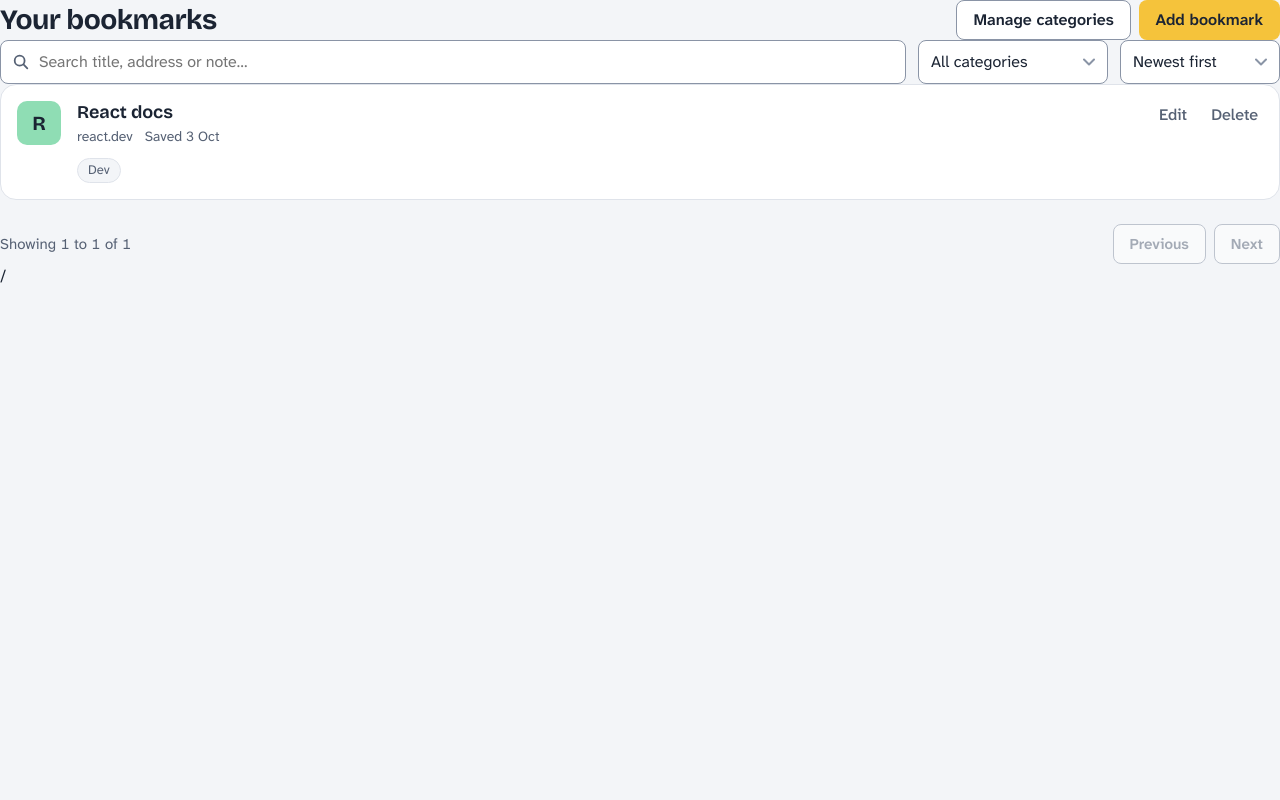
Test case: Manage categories › renames a category, and the bookmark chips show the new name
The image size is (1280, 800).
Expected: the link with aria-label "Show bookmarks in Dev" is shown, [77,158,121,183]
Click the button "Manage categories": (1044,20) [956,0,1131,40]
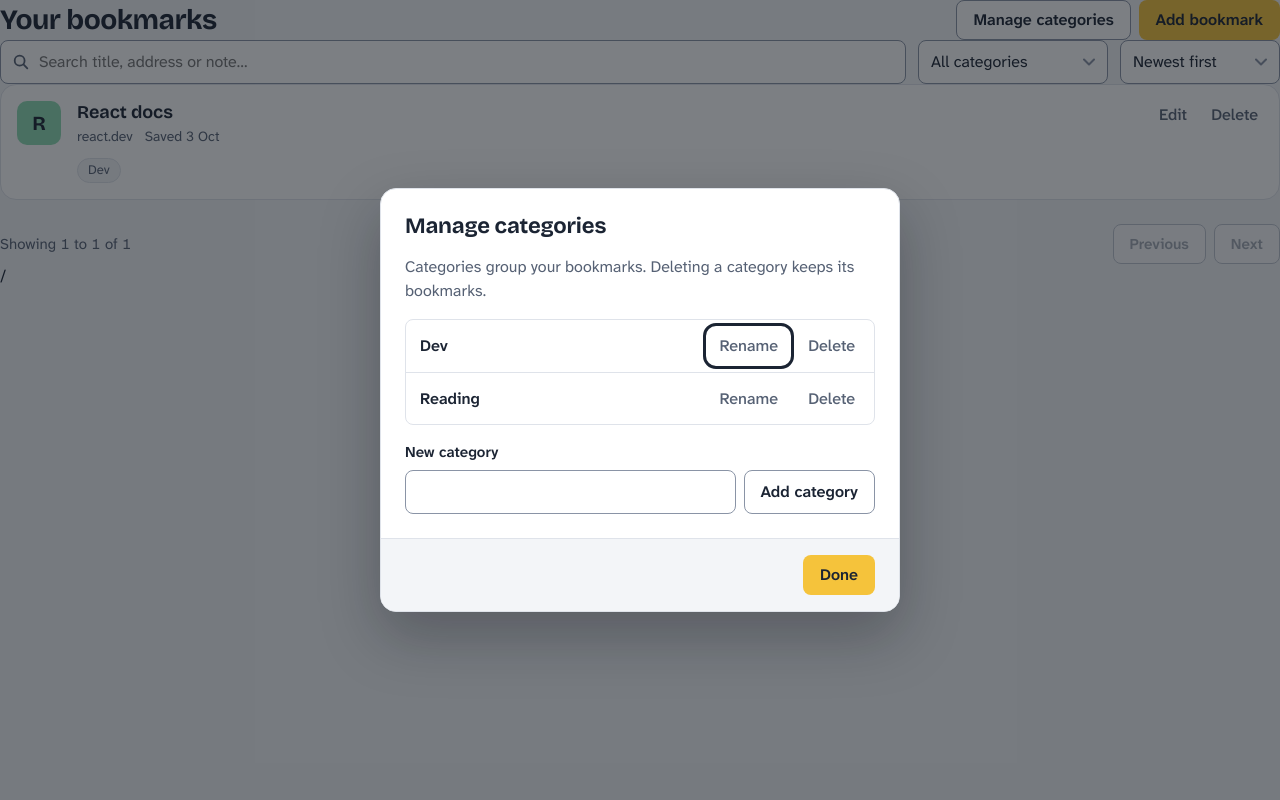
Click the button with aria-label "Rename Dev": (749,346) [708,328,789,364]
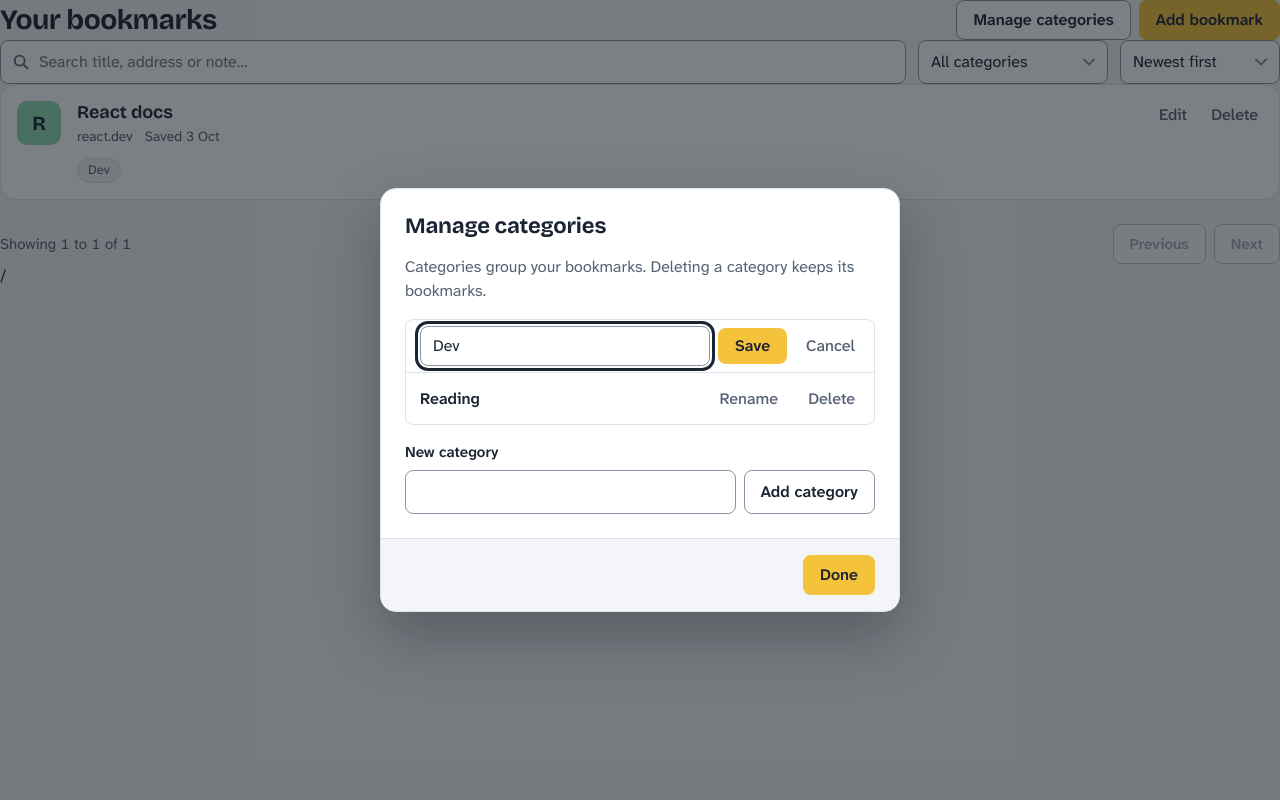
Replace the text in the field named "New name for “Dev”" with "Programming": (565,346) [420,326,710,366]
Then press Enter
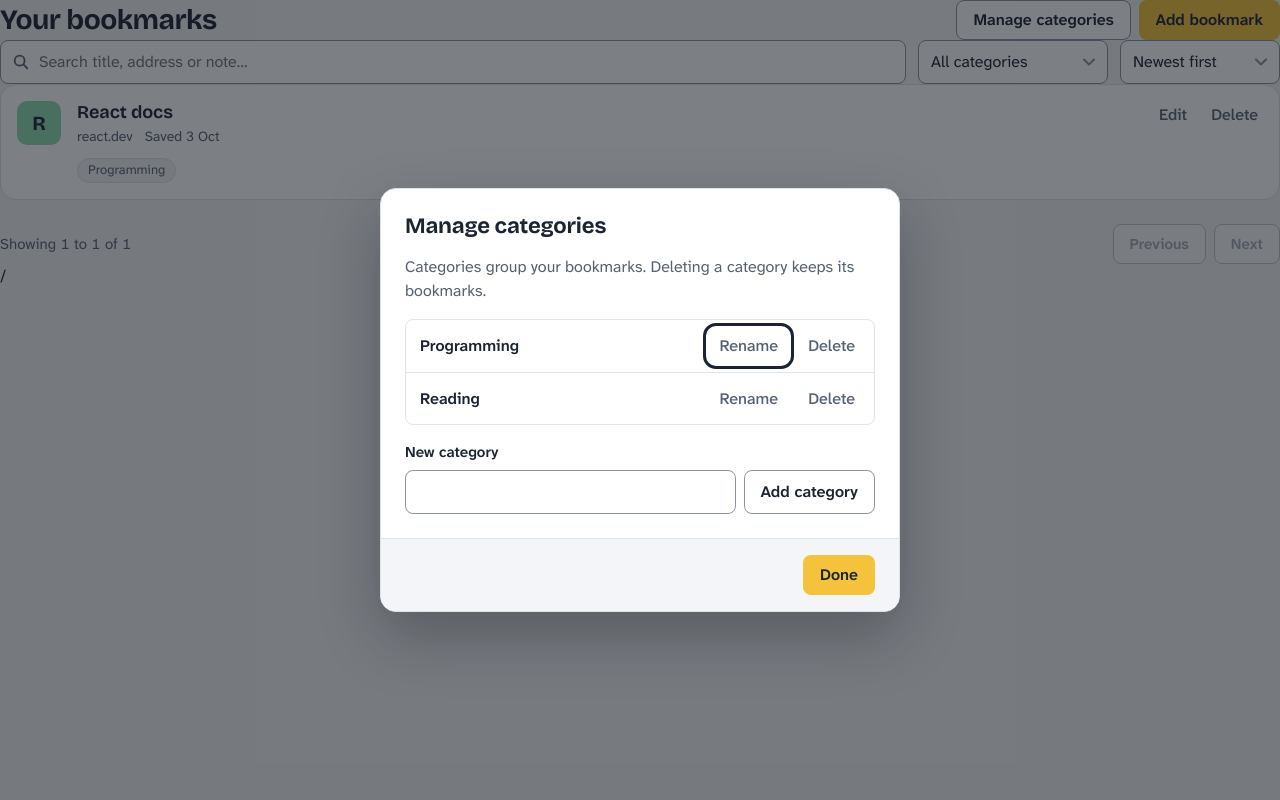
Now the link with aria-label "Show bookmarks in Programming" is shown, box [77,158,176,183]
